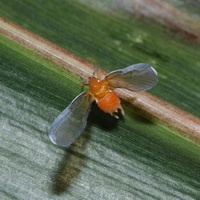insect: (49, 63, 157, 145)
